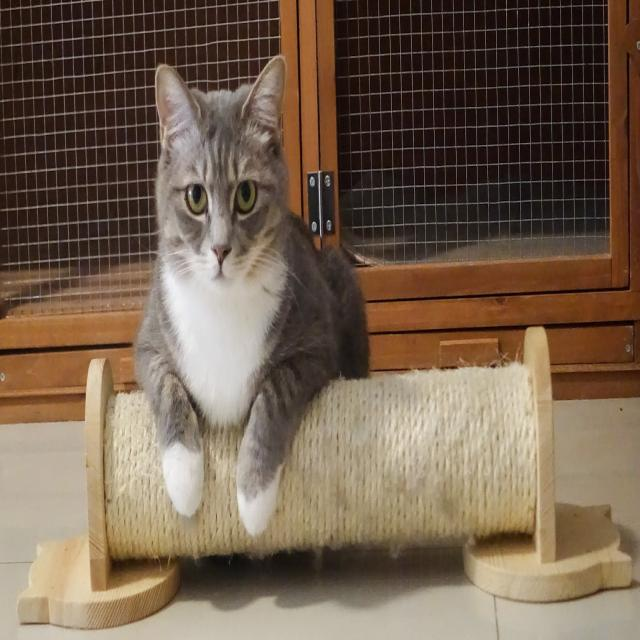Cat: (132, 52, 370, 538)
